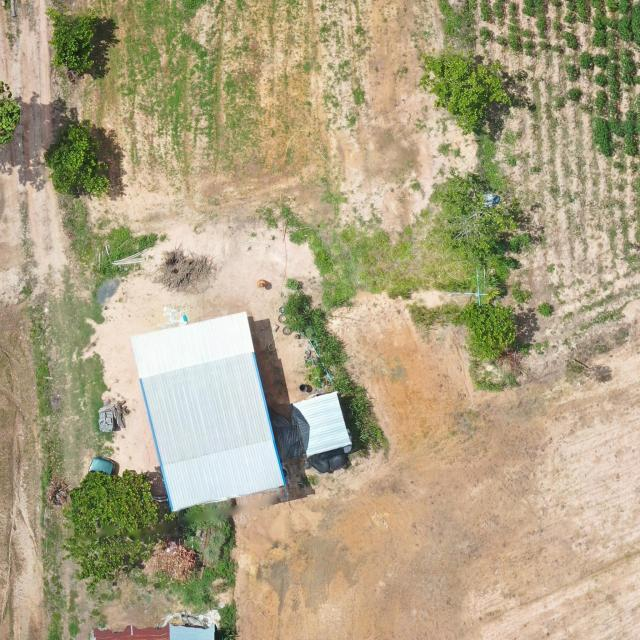Tree: (57, 469, 162, 596), (431, 168, 521, 258), (419, 53, 514, 137), (42, 123, 112, 199), (459, 301, 518, 362), (48, 14, 99, 72)
